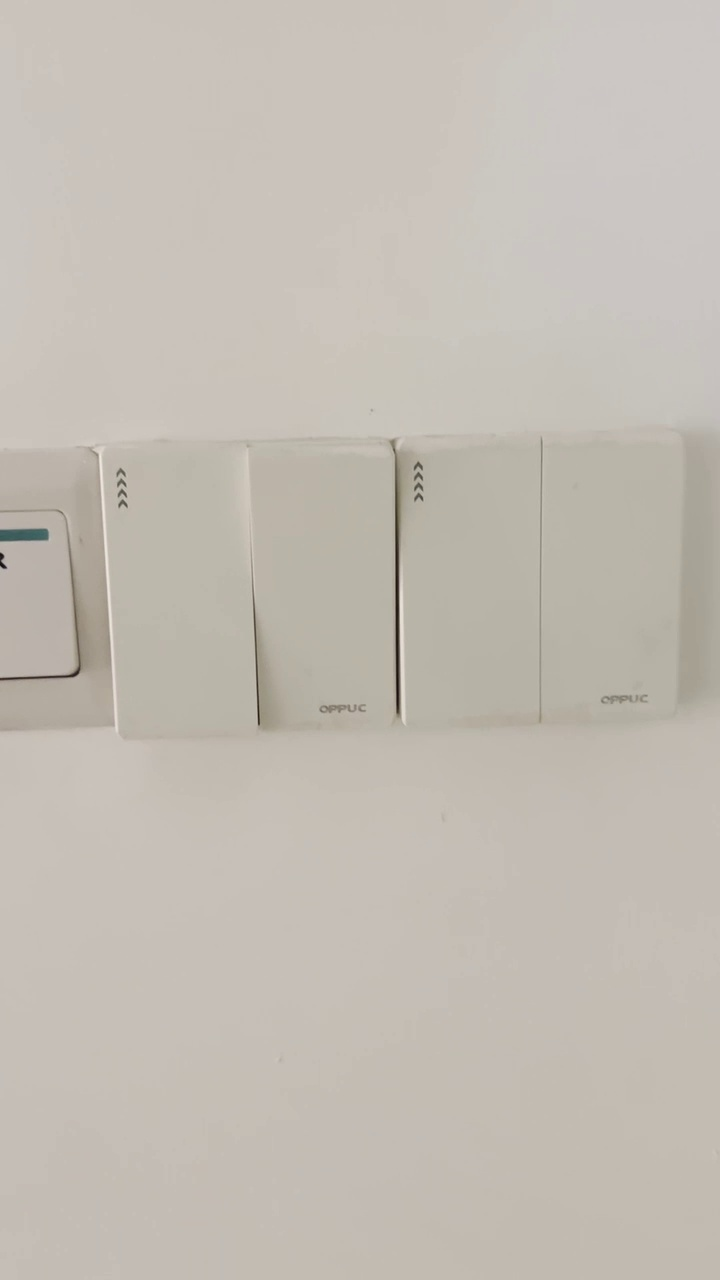button1: (100, 443, 257, 737), (402, 444, 536, 728), (257, 449, 392, 722), (549, 440, 674, 721)
